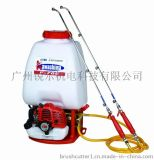berrl: (22, 27, 91, 146)
